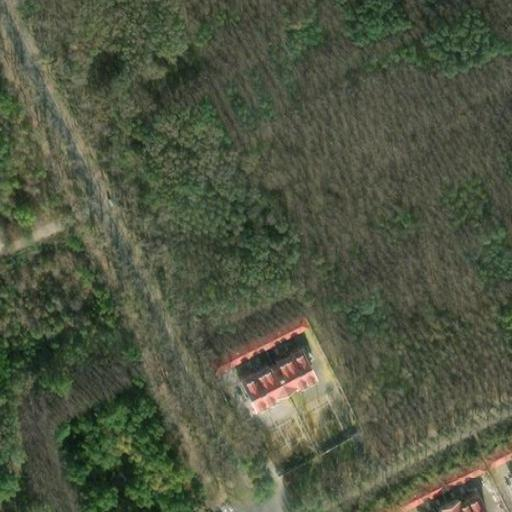building: (194, 300, 299, 368), (384, 450, 481, 512), (235, 349, 309, 409), (471, 429, 512, 469), (429, 493, 484, 512), (350, 495, 392, 512)
